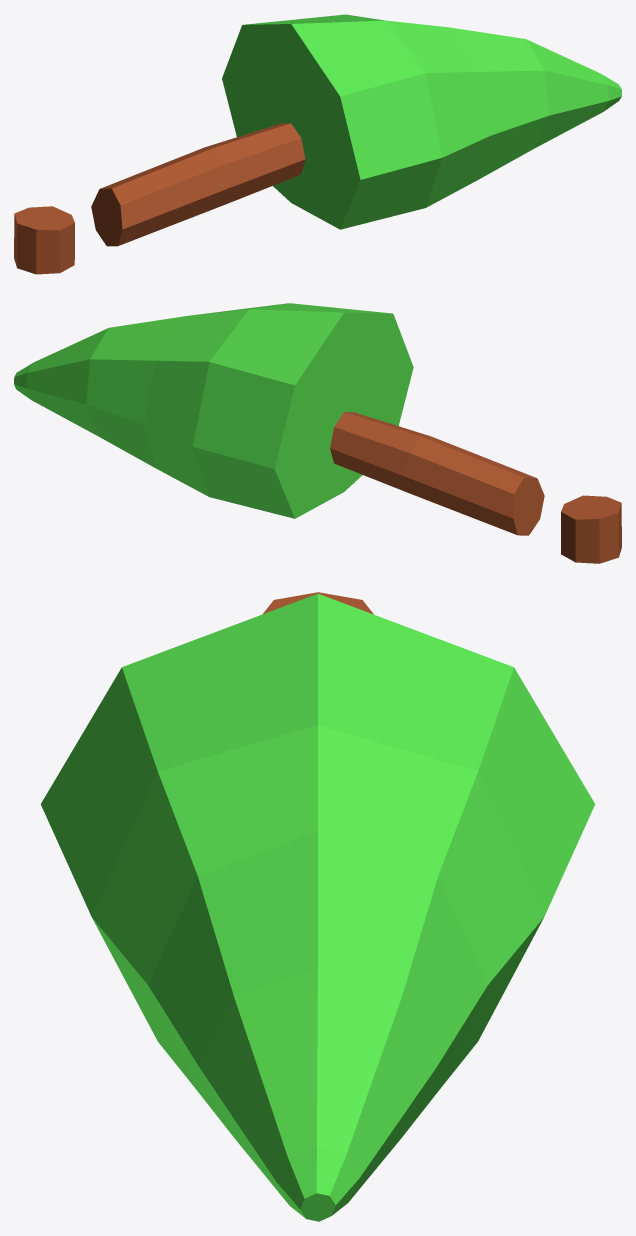
The model's file is Tree004_V3.fbx.
3 renders of one model, top to bottom at view 1: azimuth 30°, elevation 25°; view 2: azimuth 150°, elevation 25°; view 3: azimuth 270°, elevation 25°, orthographic. The views are drawn at different scales.
Visible parts, largest first — view 1: Tree004.001; view 2: Tree004.001; view 3: Tree004.001.
Part boxes in pixels (x1,y1,x2,y2): Tree004.001: (14,14,621,274); Tree004.001: (14,303,621,563); Tree004.001: (40,592,595,1221).
Size of the model in its own units: 6.08 by 1.74 by 2.43.
